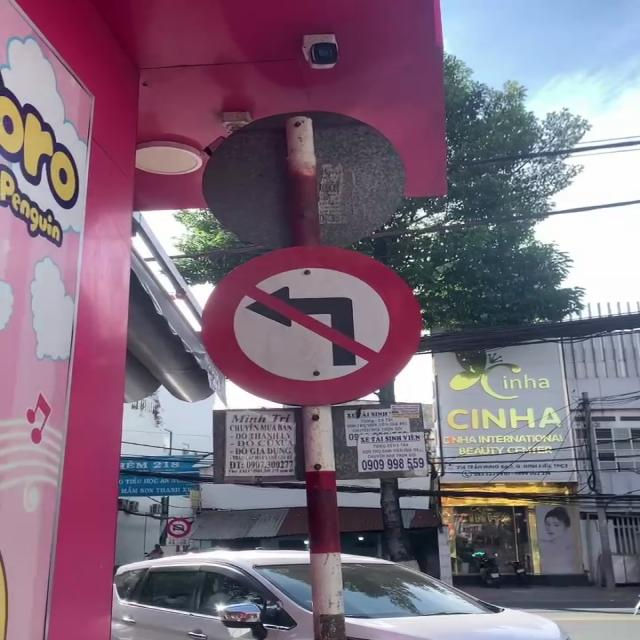Cam_Re_Trai: (198, 244, 423, 406)
